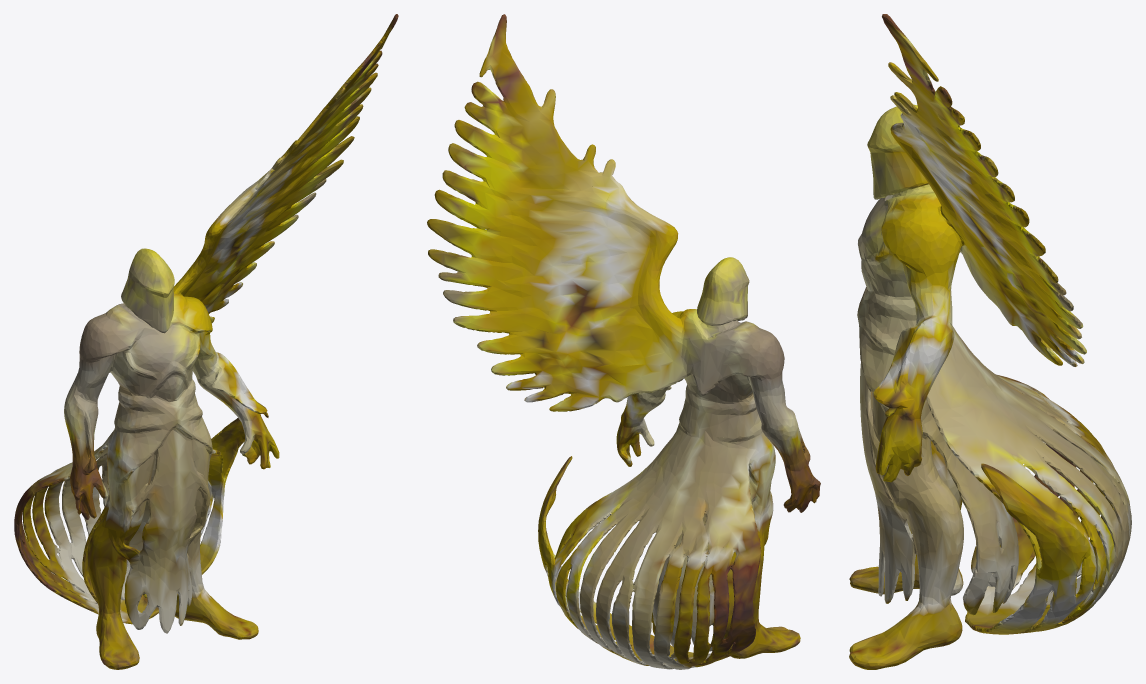
The model's file is fallenAngel.glb.
3 views of the same model, side by side, from view 1: azimuth 30°, elevation 25°; view 2: azimuth 150°, elevation 25°; view 3: azimuth 270°, elevation 25° (orthographic). The views are drawn at different scales.
Parts seen in each view (by area): view 1: world; view 2: world; view 3: world.
Boxes of the visible parts, box(x1,y1,x2,y2) form: world: box(14, 14, 398, 669); world: box(427, 14, 820, 669); world: box(849, 14, 1131, 669).
Bounding box in the file's own units: 0.6153 × 1 × 0.3413.
